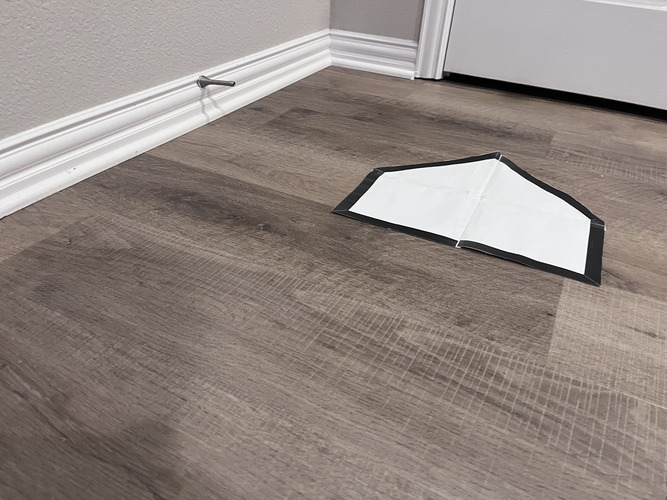homeplate: (331, 152, 606, 287)
